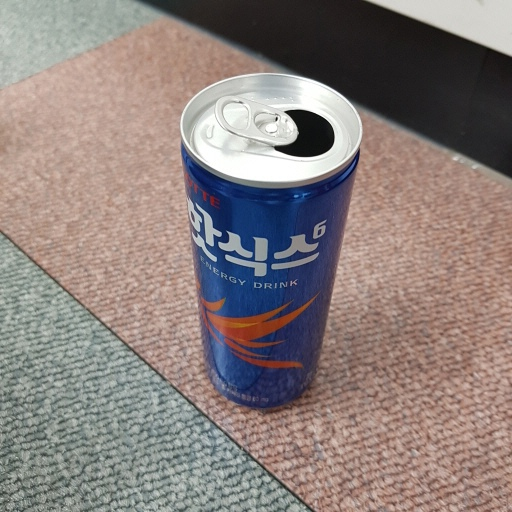Metal_0: (177, 68, 365, 412)
